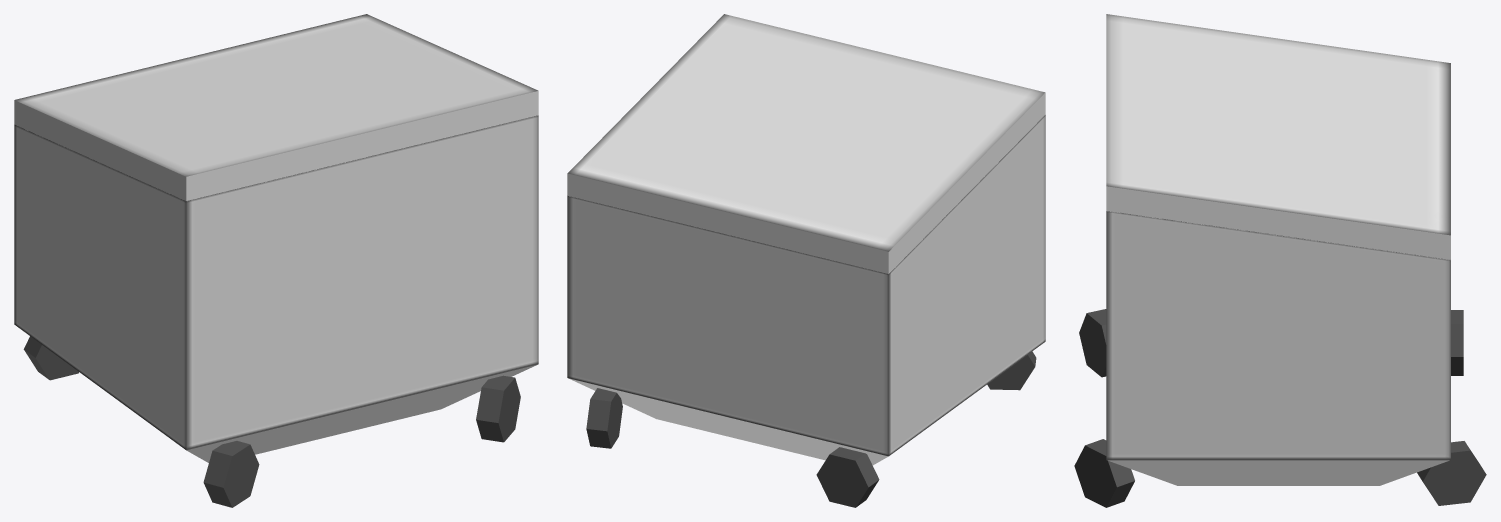
File: Dumpster-01.fbx
3 renders of one model, left to right at view 1: azimuth 30°, elevation 25°; view 2: azimuth 150°, elevation 25°; view 3: azimuth 270°, elevation 25°, orthographic. The views are drawn at different scales.
Parts seen in each view (by area): view 1: Dumpster_01; view 2: Dumpster_01; view 3: Dumpster_01.
Boxes of the visible parts, x1,y1,x2,y2 form: Dumpster_01: (14, 14, 538, 507); Dumpster_01: (567, 14, 1045, 507); Dumpster_01: (1074, 14, 1486, 507).
Size of the model in its own units: 0.7239 by 0.6529 by 0.7322.
